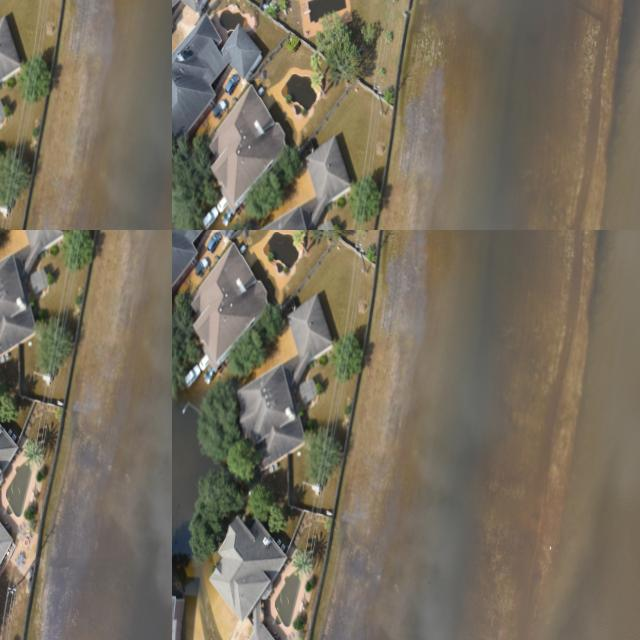fire: (313, 230, 640, 640), (172, 395, 211, 552)
